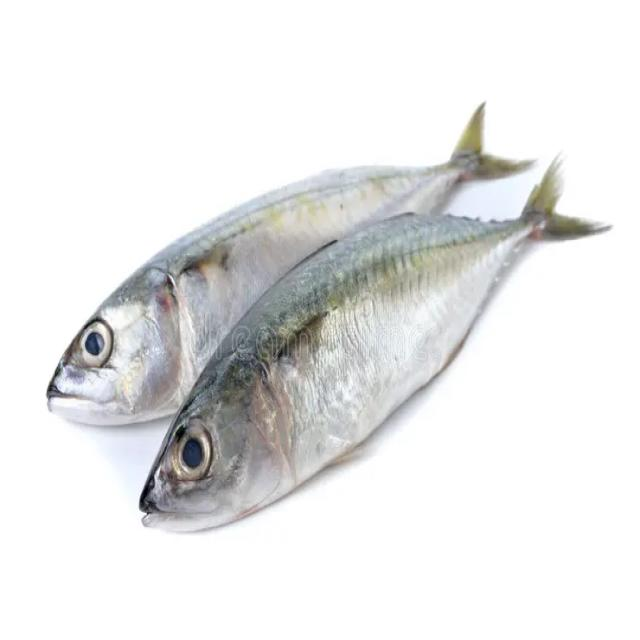Mackerel: (147, 147, 604, 538), (49, 103, 534, 425)
